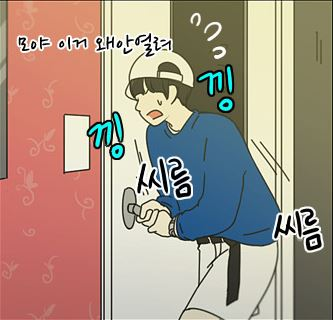hat: (125, 50, 200, 103)
